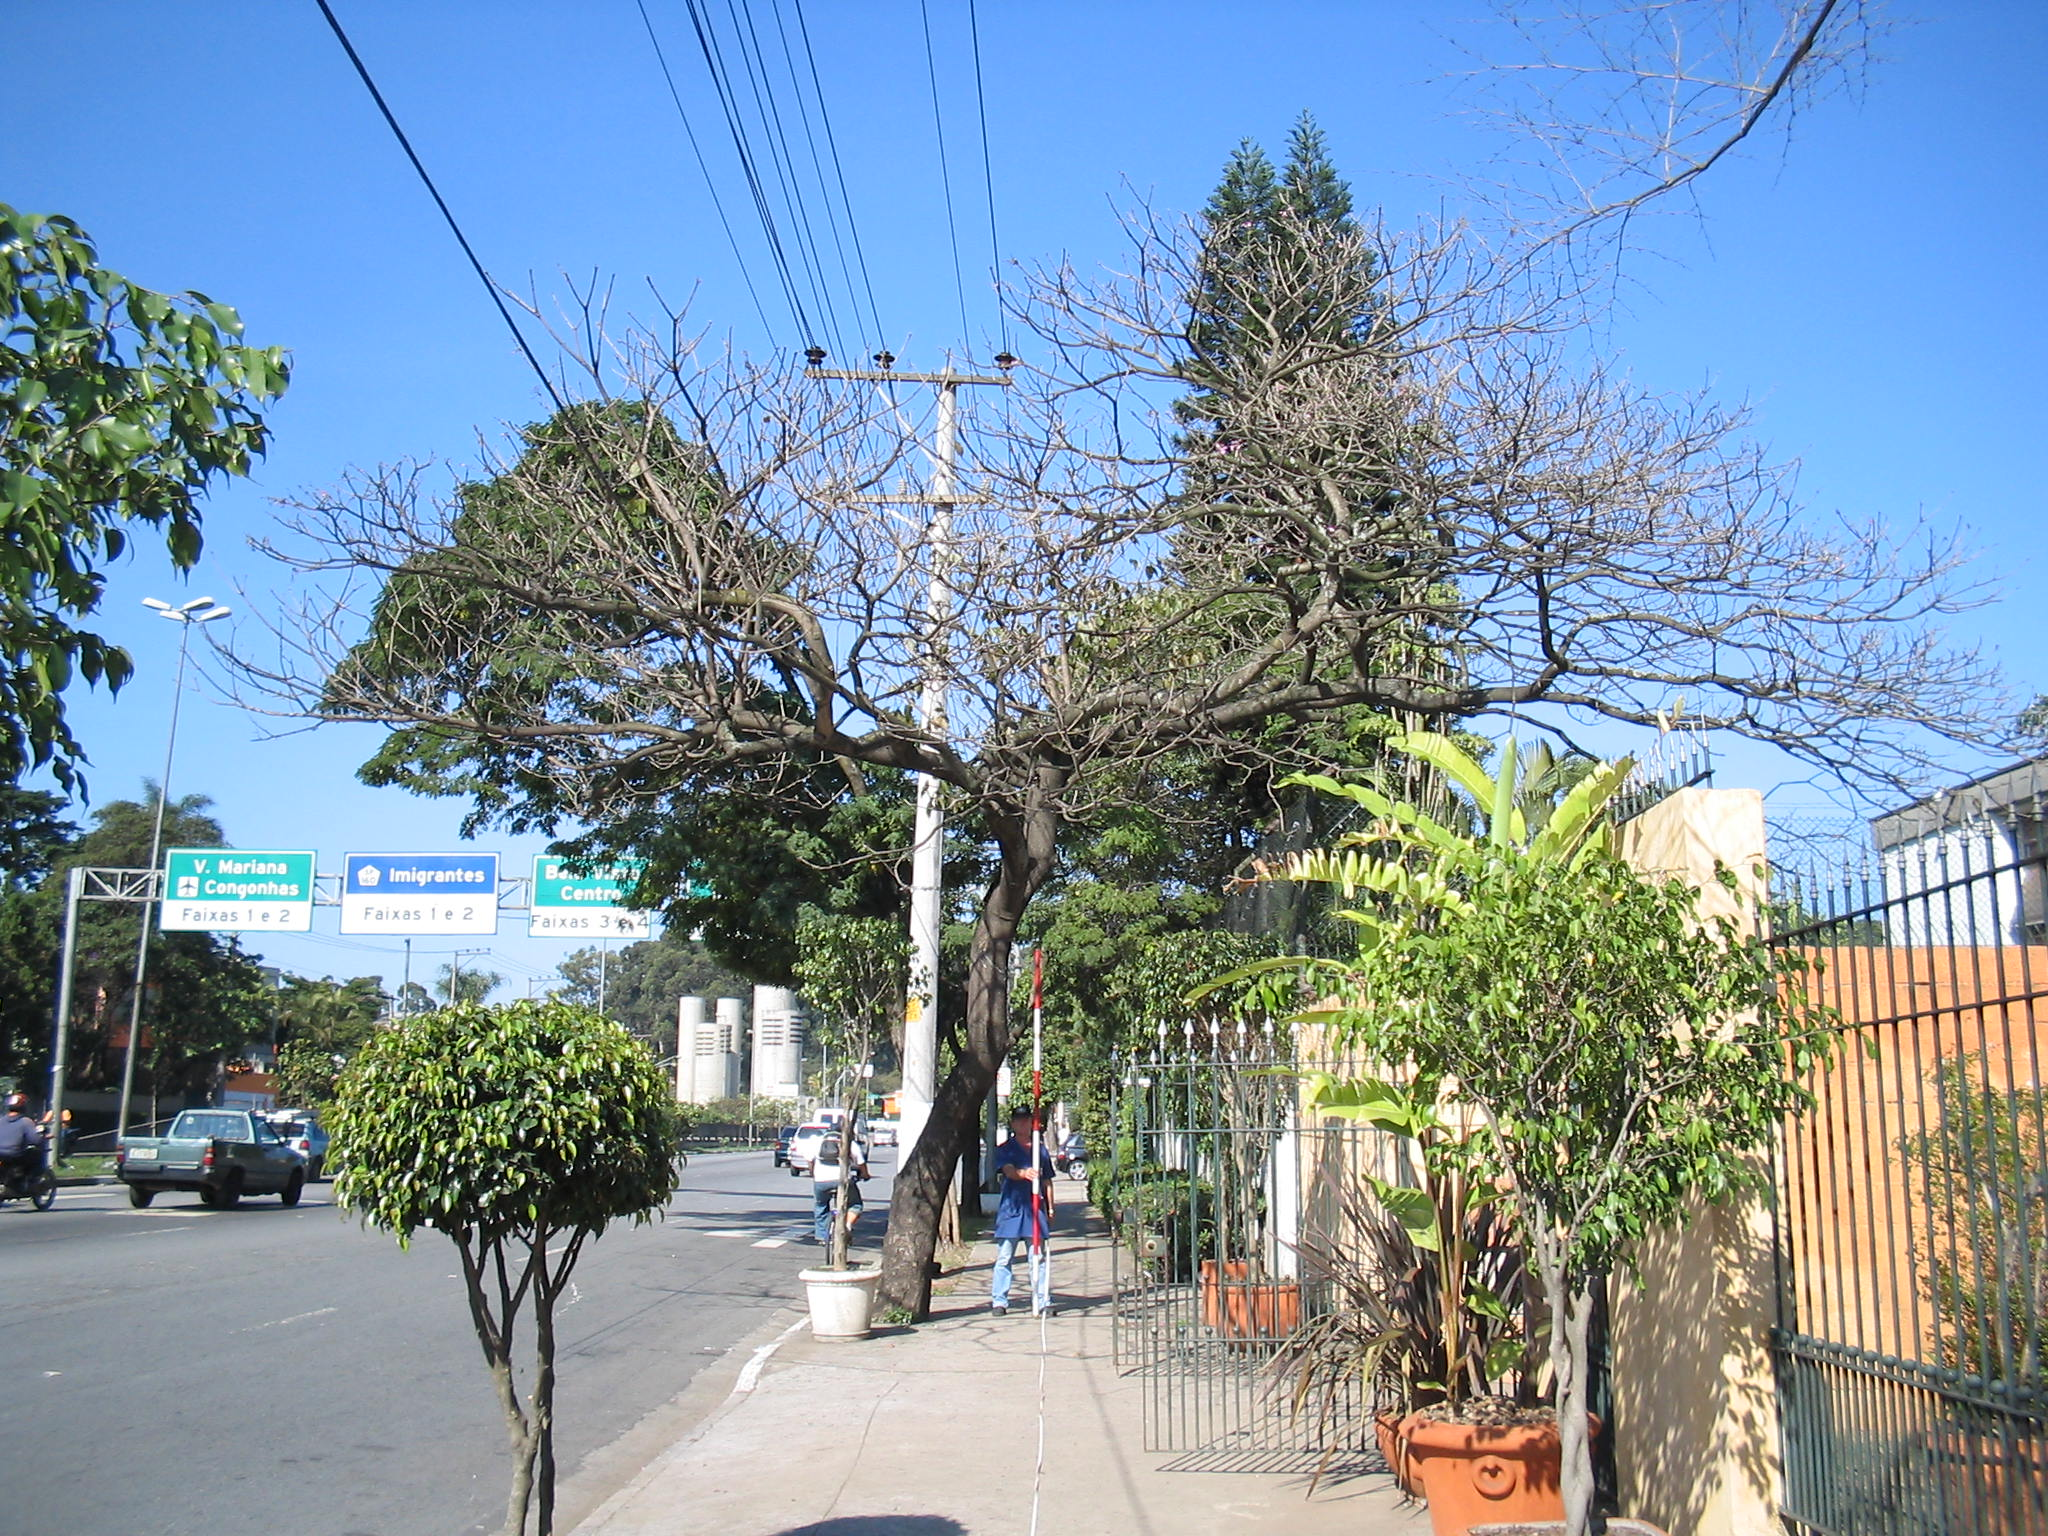stem: (872, 821, 1030, 1326)
stick: (1018, 944, 1051, 1318)
tree: (190, 186, 2048, 1329)
